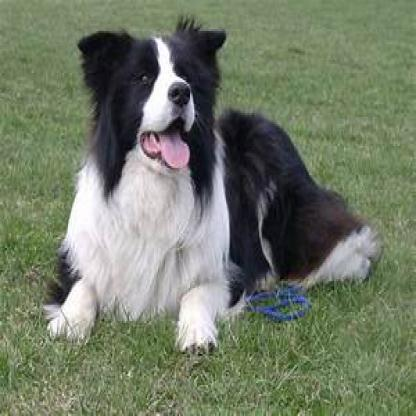dog: (44, 15, 376, 354)
